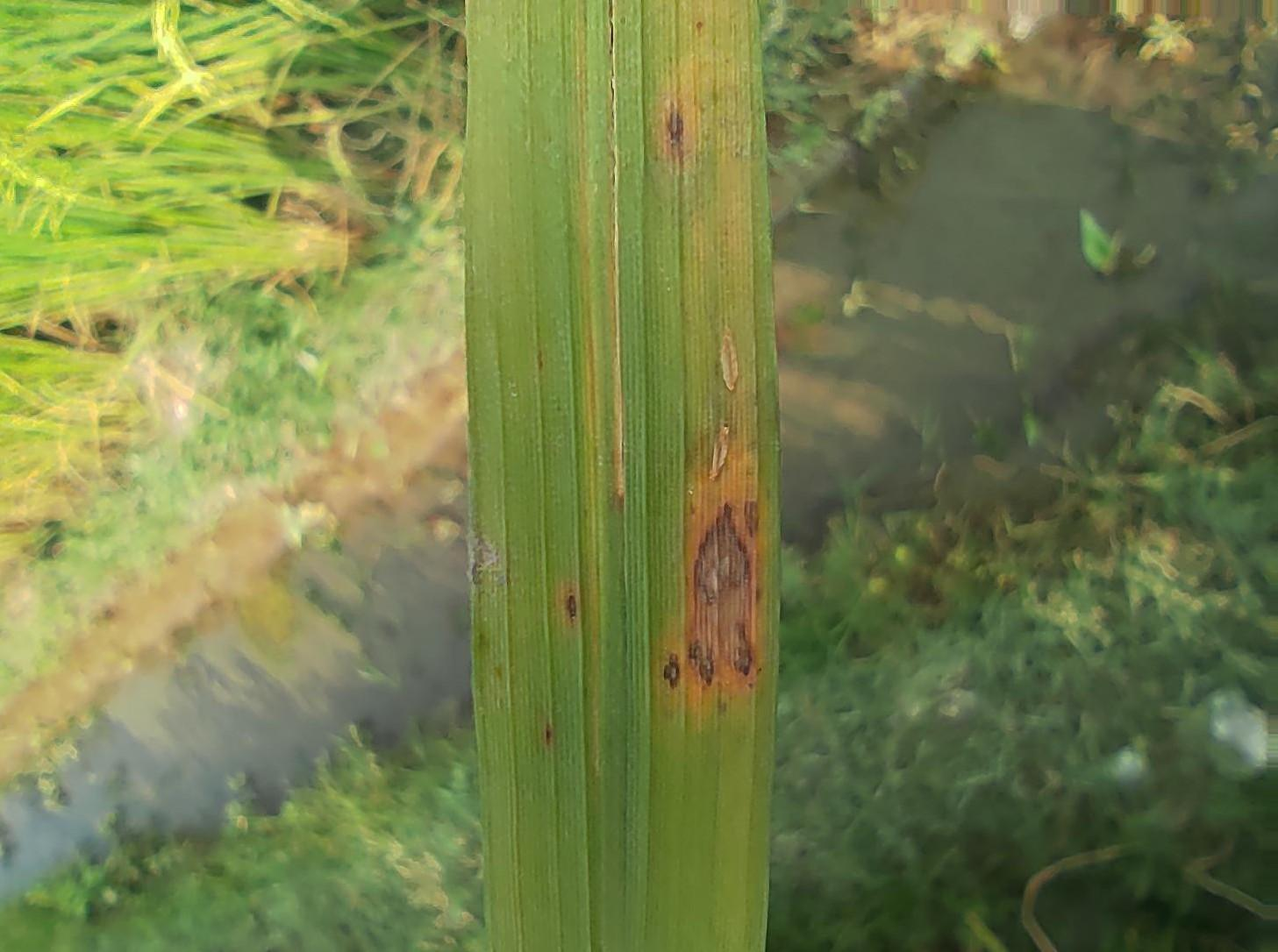LEAF: (463, 0, 779, 951)
LEAF BLAST: (687, 501, 760, 685), (668, 107, 683, 153), (563, 591, 581, 627), (663, 652, 679, 690), (744, 499, 758, 541)
